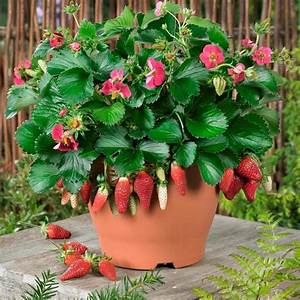Fresa: (131, 167, 158, 211), (56, 255, 95, 285), (167, 157, 194, 199), (111, 171, 134, 218), (38, 217, 74, 243), (234, 153, 265, 182), (95, 254, 122, 285), (240, 176, 259, 204)
